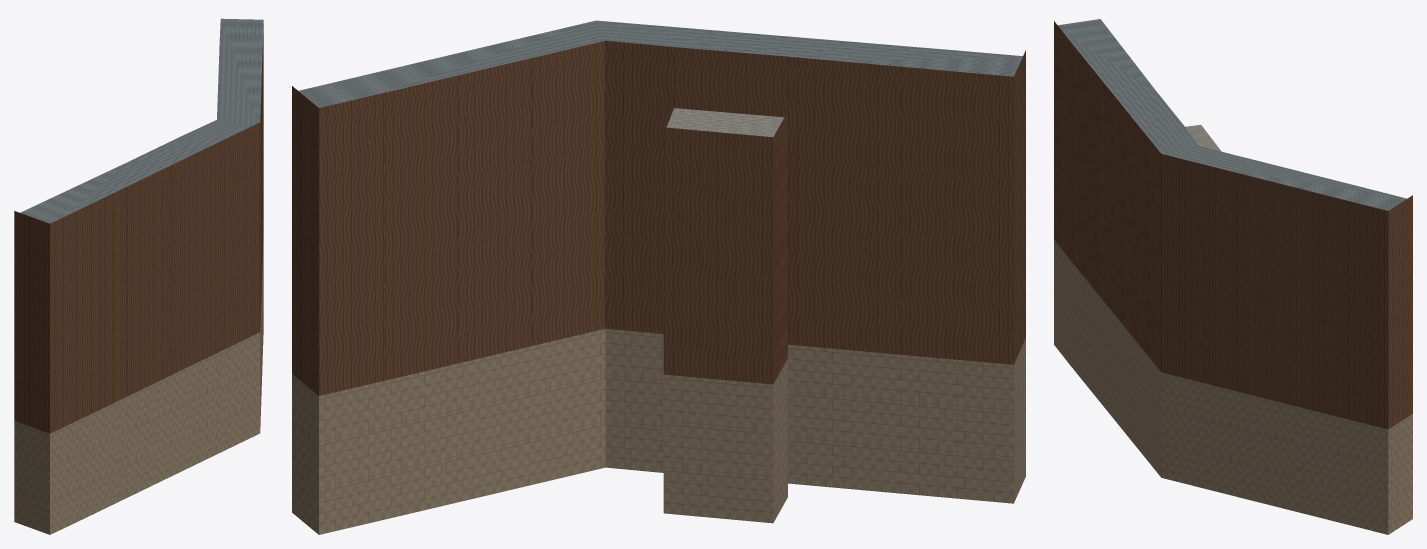
File: bld_c1_0_534.gltf
3 views of the same model, side by side, from view 1: azimuth 30°, elevation 25°; view 2: azimuth 150°, elevation 25°; view 3: azimuth 270°, elevation 25° (orthographic). The views are drawn at different scales.
Visible parts, largest first — view 1: bld_c1_0_534; view 2: bld_c1_0_534; view 3: bld_c1_0_534.
Boxes of the visible parts, <box> form: bld_c1_0_534: <box>14,18,263,534</box>; bld_c1_0_534: <box>292,20,1025,534</box>; bld_c1_0_534: <box>1054,19,1412,534</box>.
Bounding box in the file's own units: 20.45 × 16.18 × 15.74.
5 materials, 5 textured.
